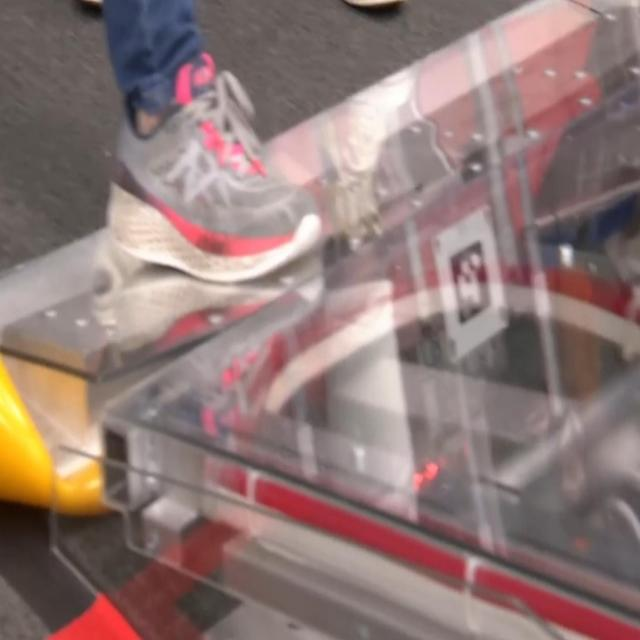frc_cone: (0, 303, 123, 531)
